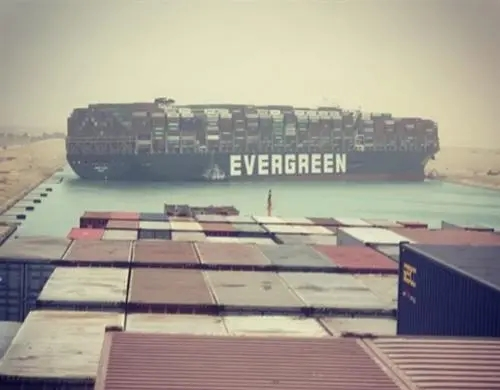Cargoship: (55, 85, 443, 187)
